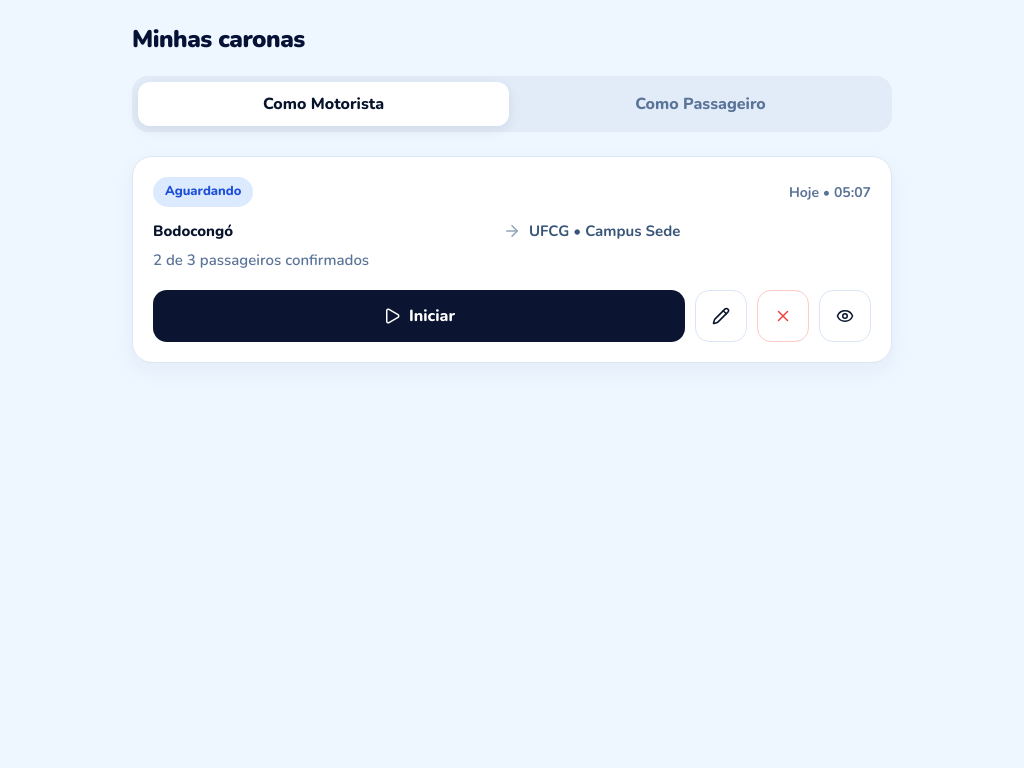
Test: cancelamento › abre o modal de confirmação sem cancelar de imediato
This screenshot has width=1024, height=768.
What coordinates should you click on to do the following:
click the button named "cancelar carona"
I would click on:
 (783, 316)
Its box is [757,290,809,342].
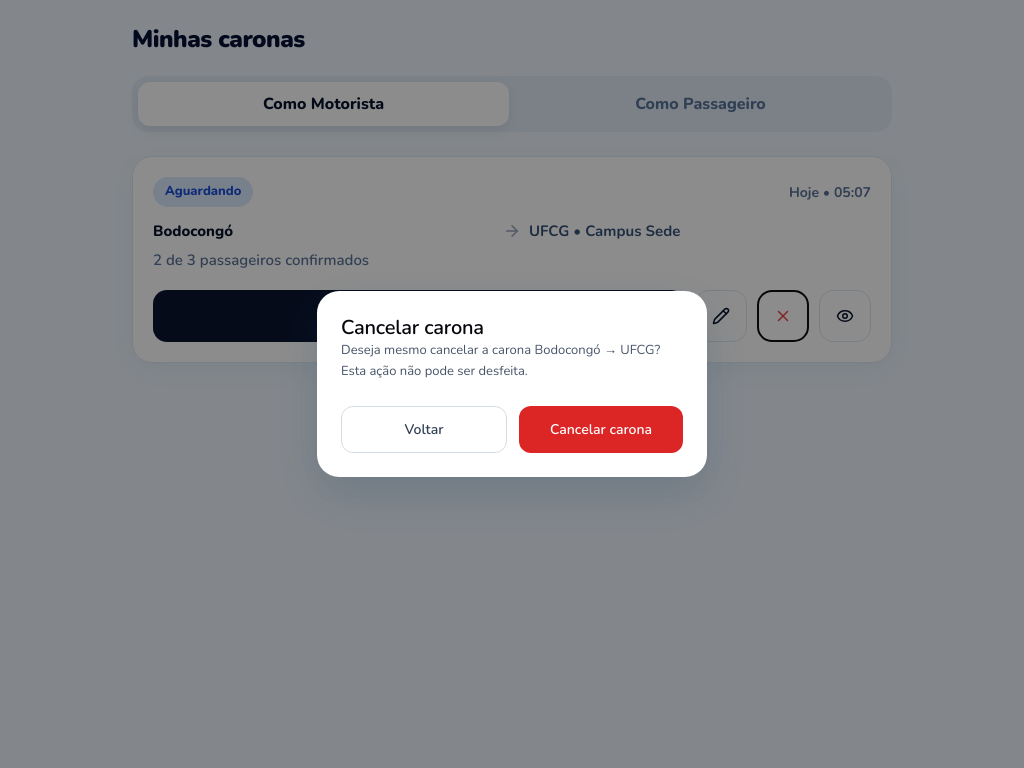
Now the heading "Cancelar carona" is shown, box [341,314,484,341]
